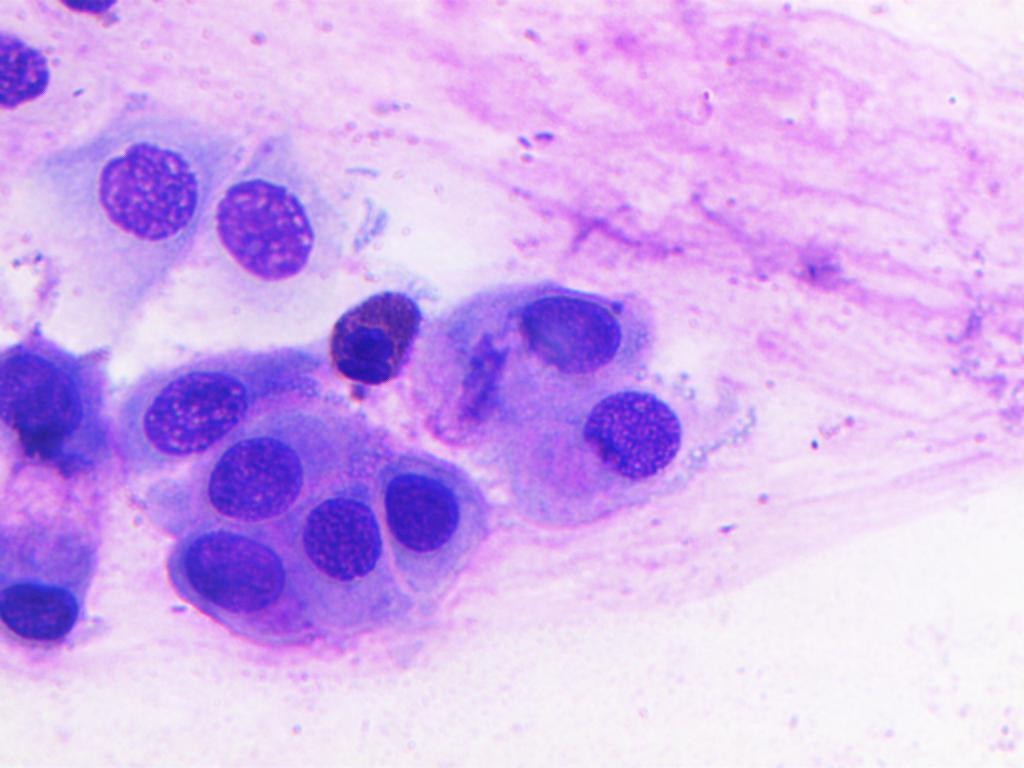epithelial: (215, 117, 436, 304), (35, 97, 221, 317), (500, 380, 701, 537), (440, 276, 650, 375), (2, 329, 111, 478), (379, 455, 487, 593), (322, 276, 425, 400), (200, 437, 326, 533), (134, 359, 248, 462), (170, 529, 294, 611), (0, 531, 87, 639), (299, 499, 384, 599), (2, 29, 50, 107)
